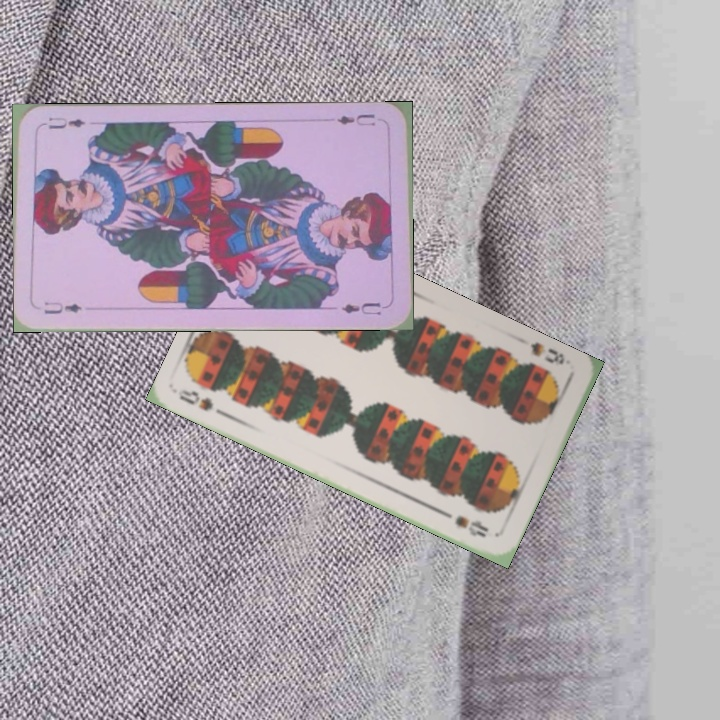EU: (40, 296, 84, 316), (333, 110, 378, 129)
S8: (175, 385, 231, 420), (526, 338, 568, 367)
